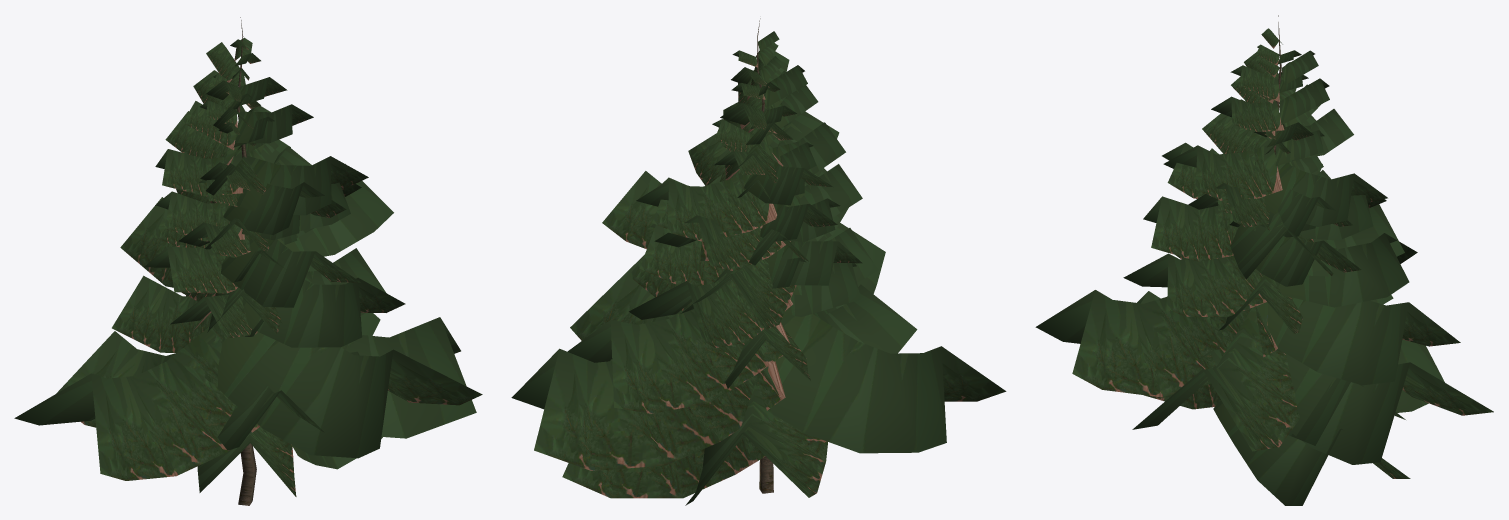
The model's file is Spruce_04.fbx.
The picture shows the model from 3 angles, left to right: view 1: azimuth 30°, elevation 25°; view 2: azimuth 150°, elevation 25°; view 3: azimuth 270°, elevation 25°; orthographic projection. The views are drawn at different scales.
Parts seen in each view (by area): view 1: spruce_5:spruce5_1, spruce_5:spruce5_0; view 2: spruce_5:spruce5_1, spruce_5:spruce5_0; view 3: spruce_5:spruce5_1.
Boxes of the visible parts, x1=… form: spruce_5:spruce5_1: x1=14, y1=37, x2=482, y2=496; spruce_5:spruce5_0: x1=237, y1=17, x2=256, y2=505; spruce_5:spruce5_1: x1=511, y1=31, x2=1006, y2=505; spruce_5:spruce5_0: x1=757, y1=18, x2=773, y2=493; spruce_5:spruce5_1: x1=1035, y1=28, x2=1493, y2=505.
Bounding box in the file's own units: 130 × 146 × 137.
Materials: 2 (2 with a texture image).
